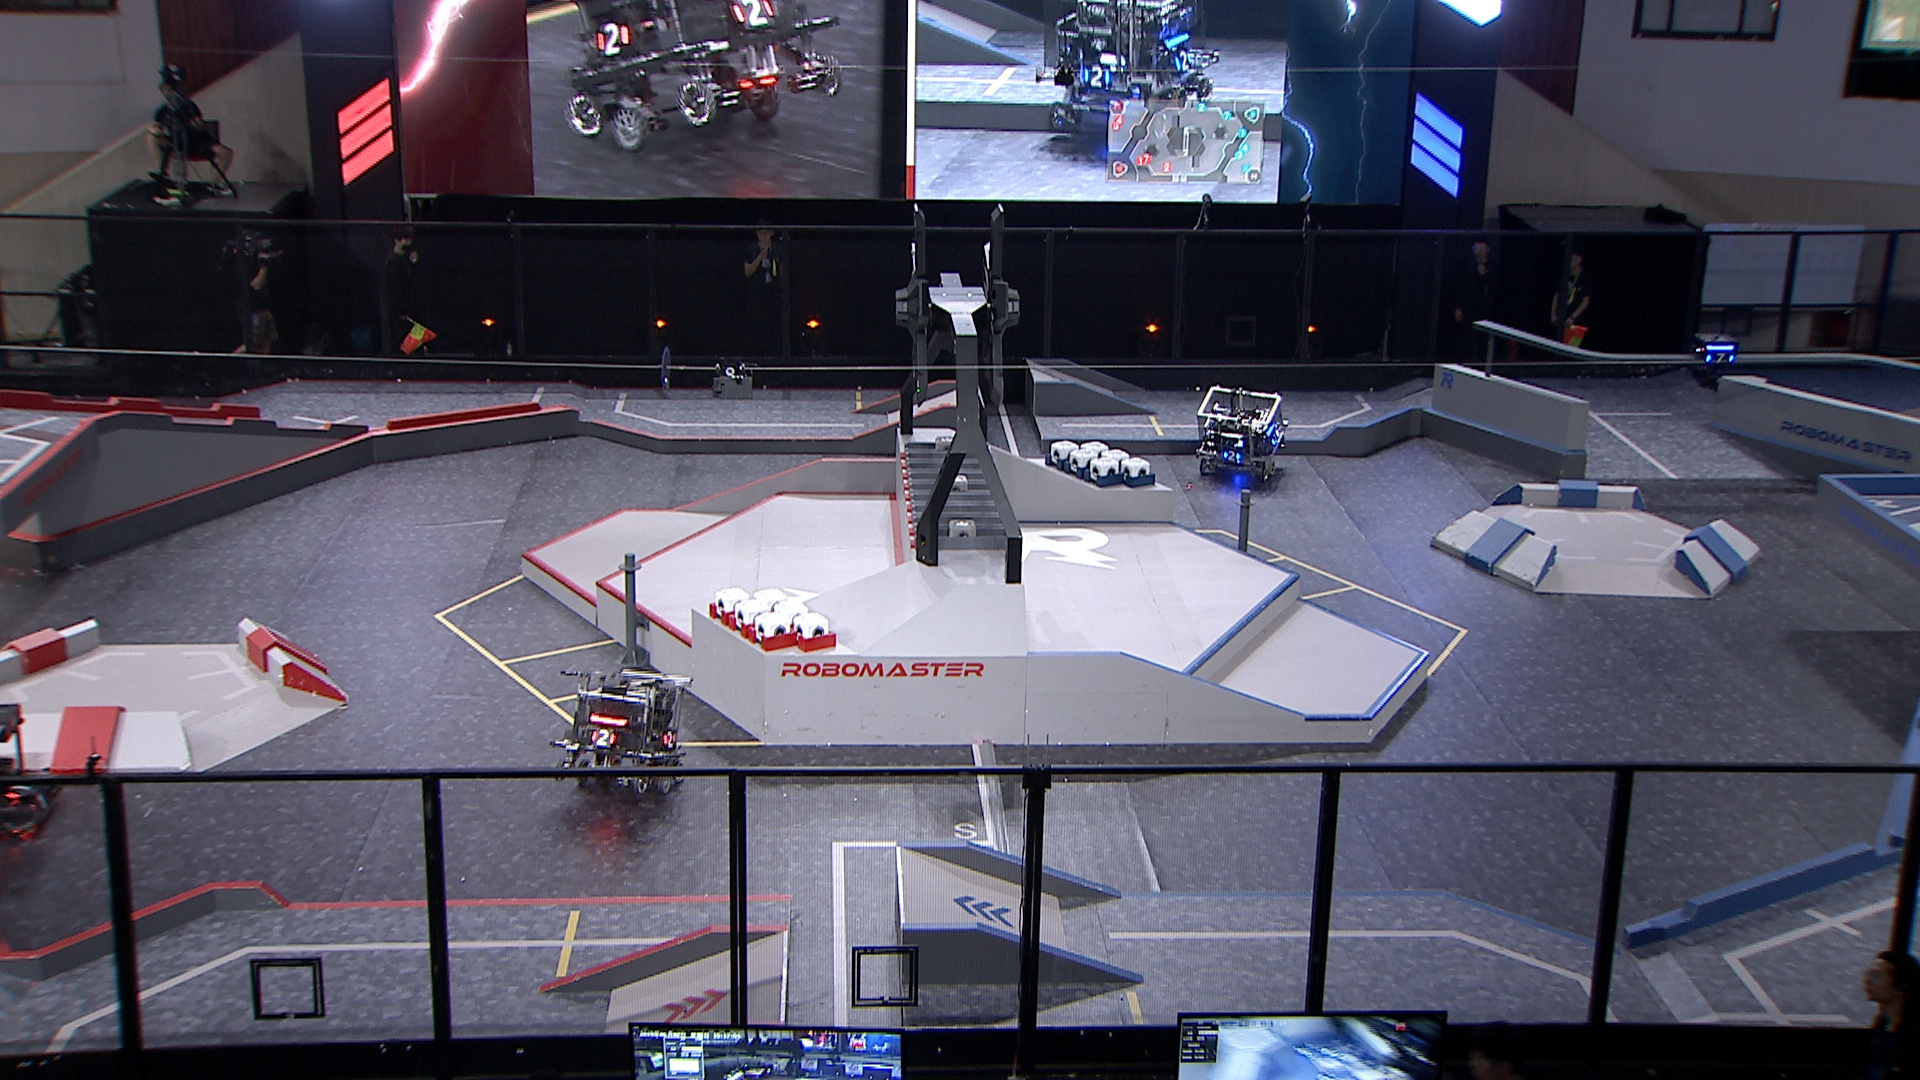armor: (26, 790, 57, 815), (589, 728, 618, 750), (5, 781, 32, 800), (1705, 352, 1735, 365), (662, 728, 679, 750), (1222, 448, 1242, 463), (1269, 429, 1280, 447)
car: (547, 669, 695, 796), (1193, 386, 1288, 484)
watcher: (1691, 332, 1741, 392)
